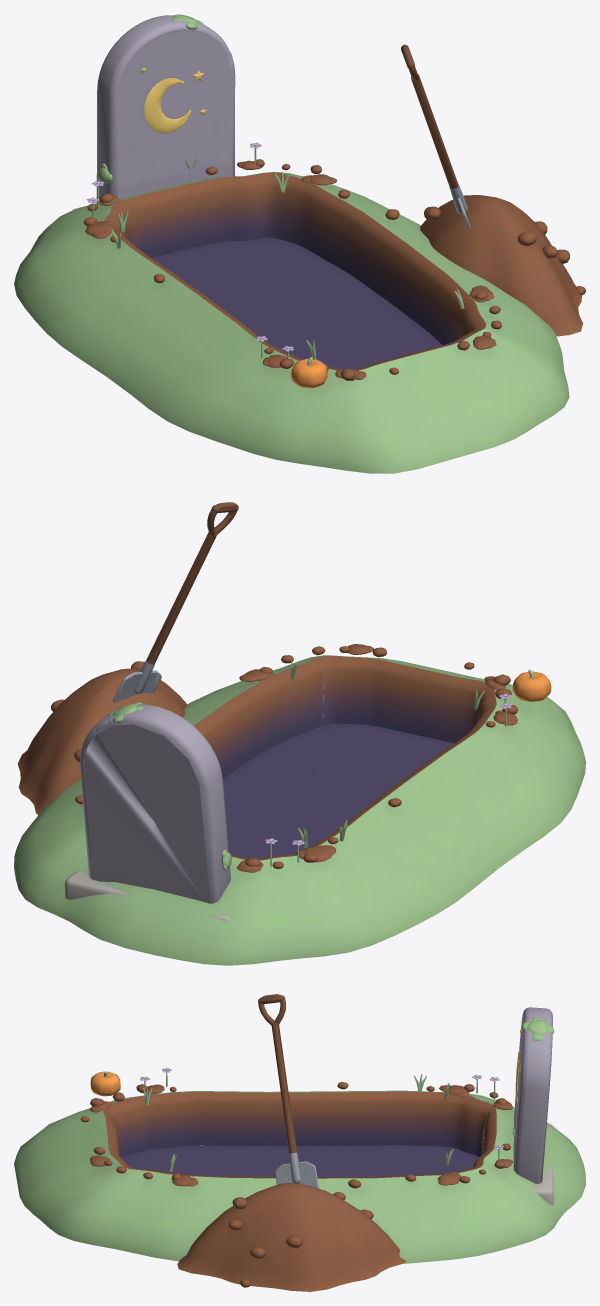
File: tumba_abierta.glb
3 renders of one model, top to bottom at view 1: azimuth 30°, elevation 25°; view 2: azimuth 150°, elevation 25°; view 3: azimuth 270°, elevation 25°, orthographic. The views are drawn at different scales.
Parts seen in each view (by area): view 1: open-grave_body; view 2: open-grave_body; view 3: open-grave_body.
Boxes of the visible parts, x1=… form: open-grave_body: x1=14, y1=14, x2=585, y2=473; open-grave_body: x1=14, y1=502, x2=585, y2=965; open-grave_body: x1=14, y1=994, x2=585, y2=1291.
Bounding box in the file's own units: 2.03 × 1.16 × 2.62.
Materials: 2 (2 with a texture image).
